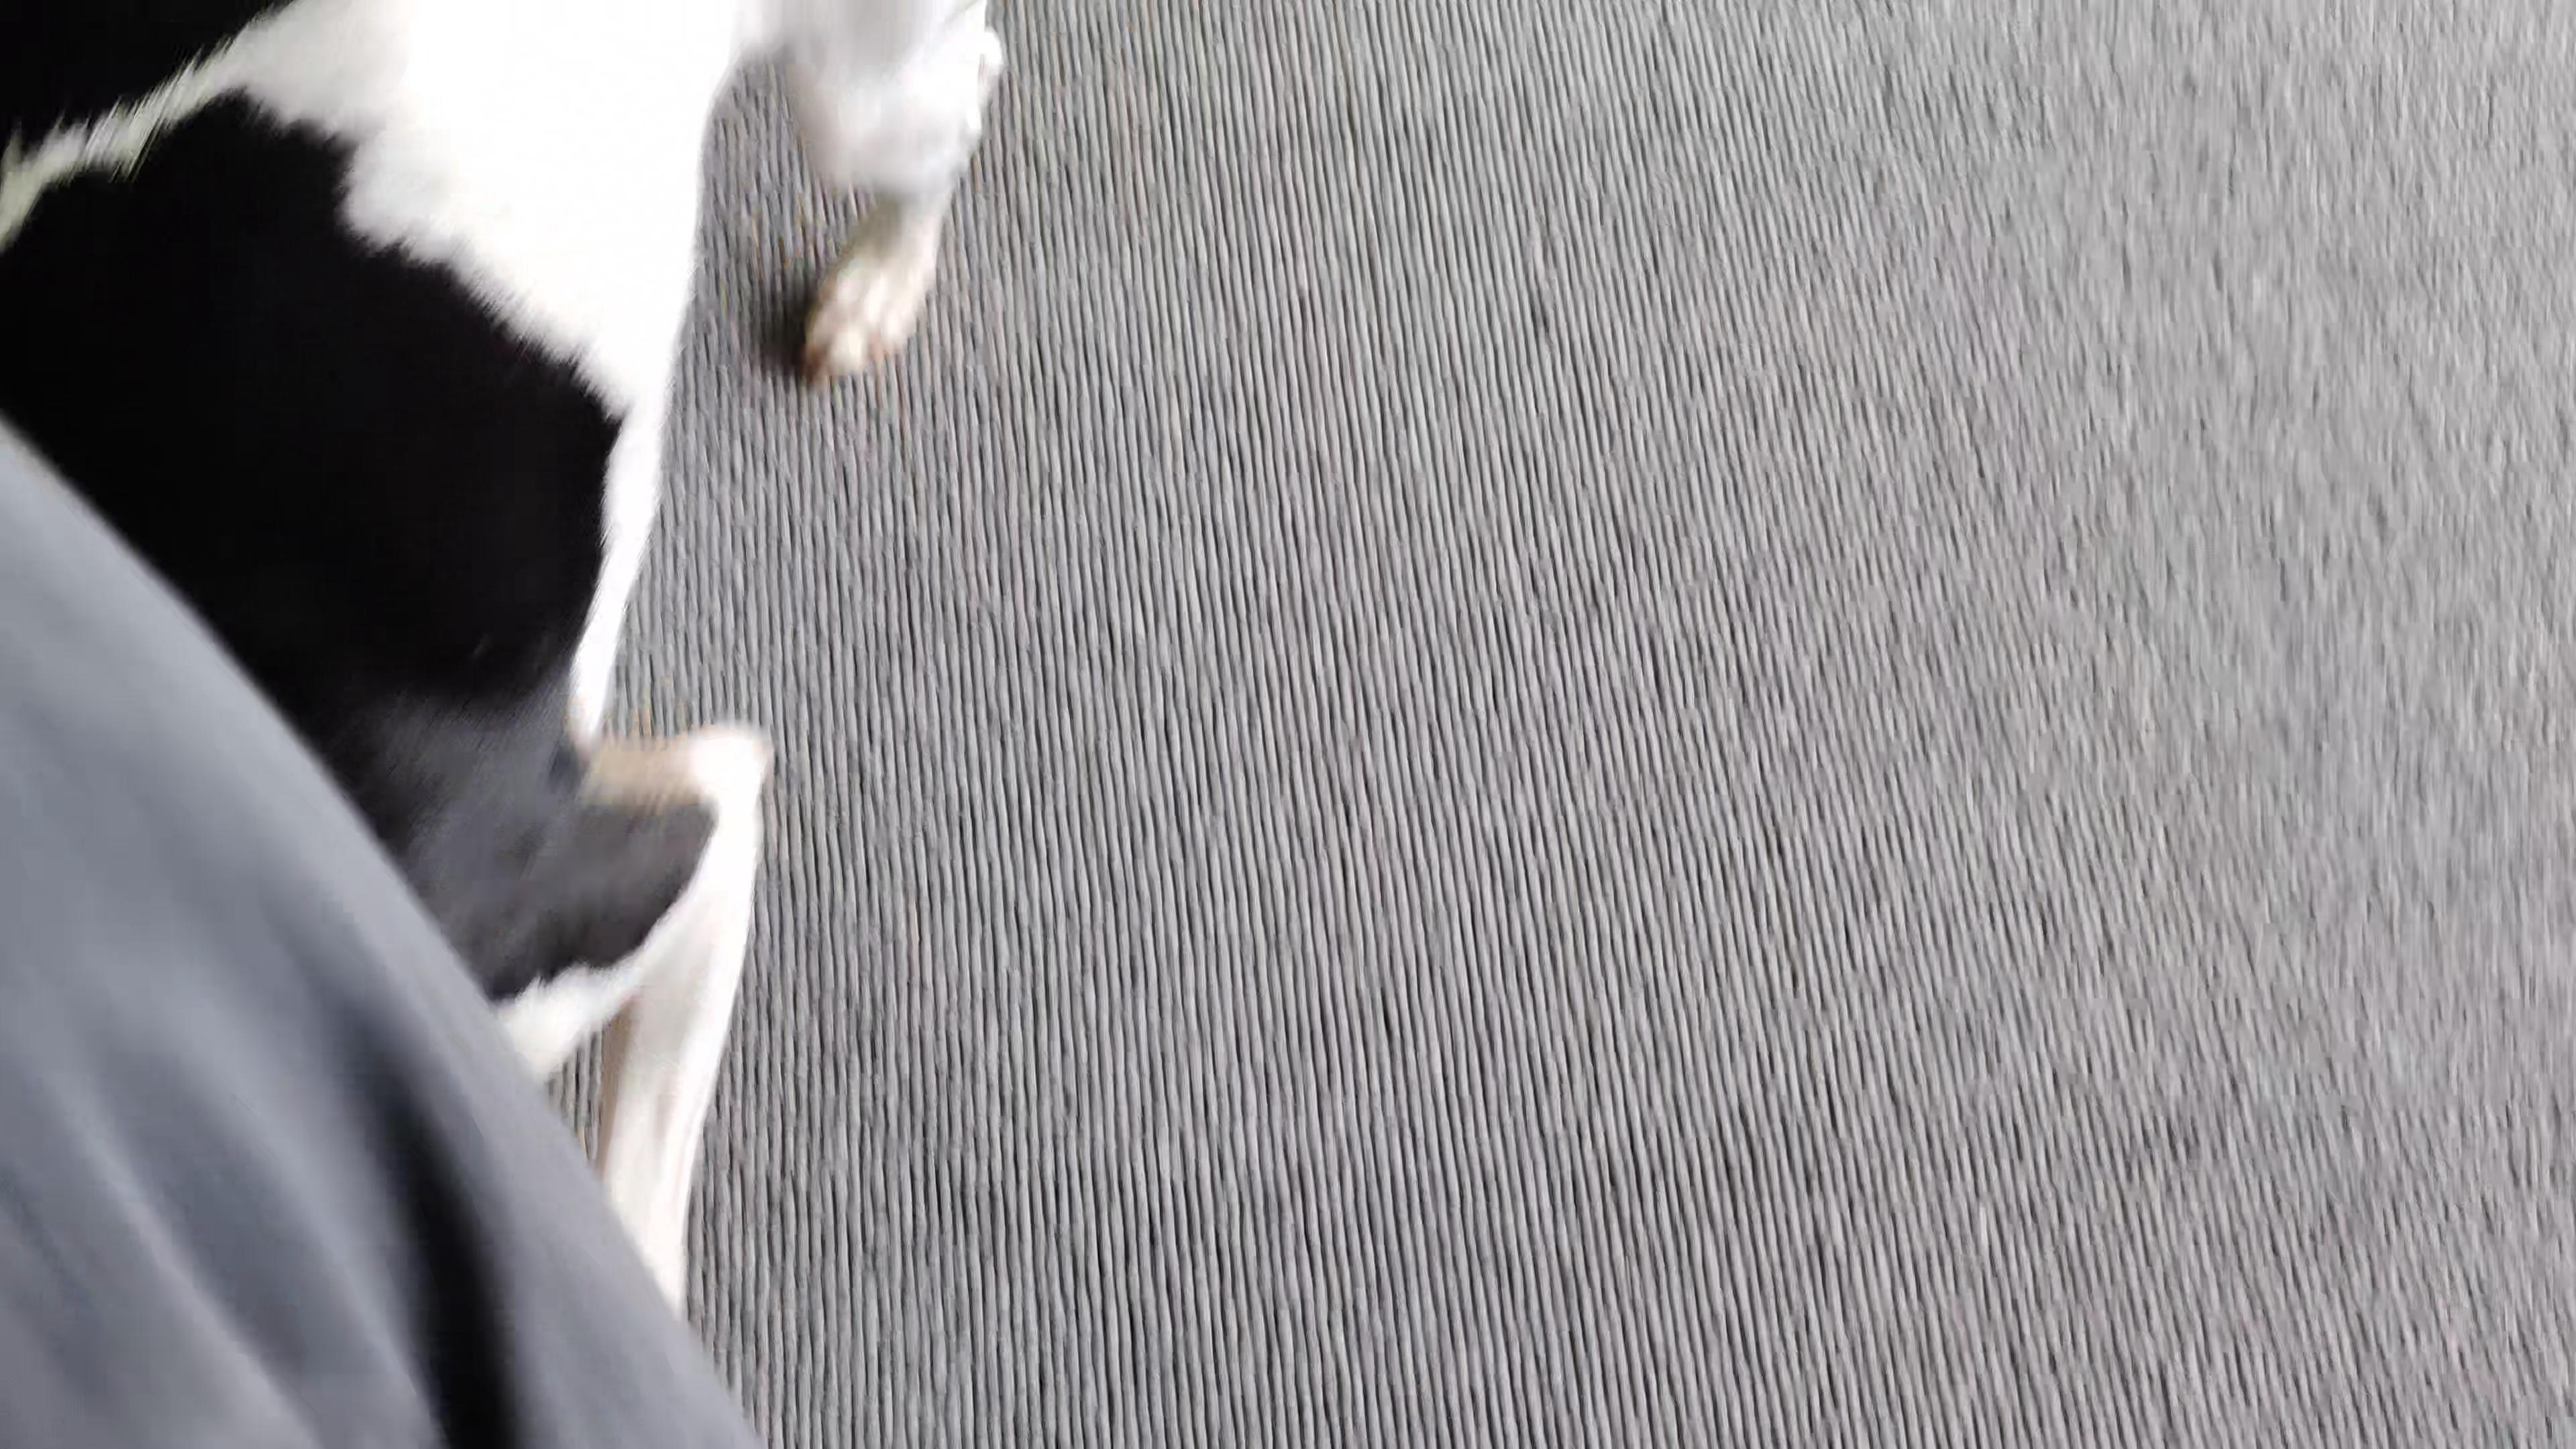Dog: (0, 0, 1017, 1318)
